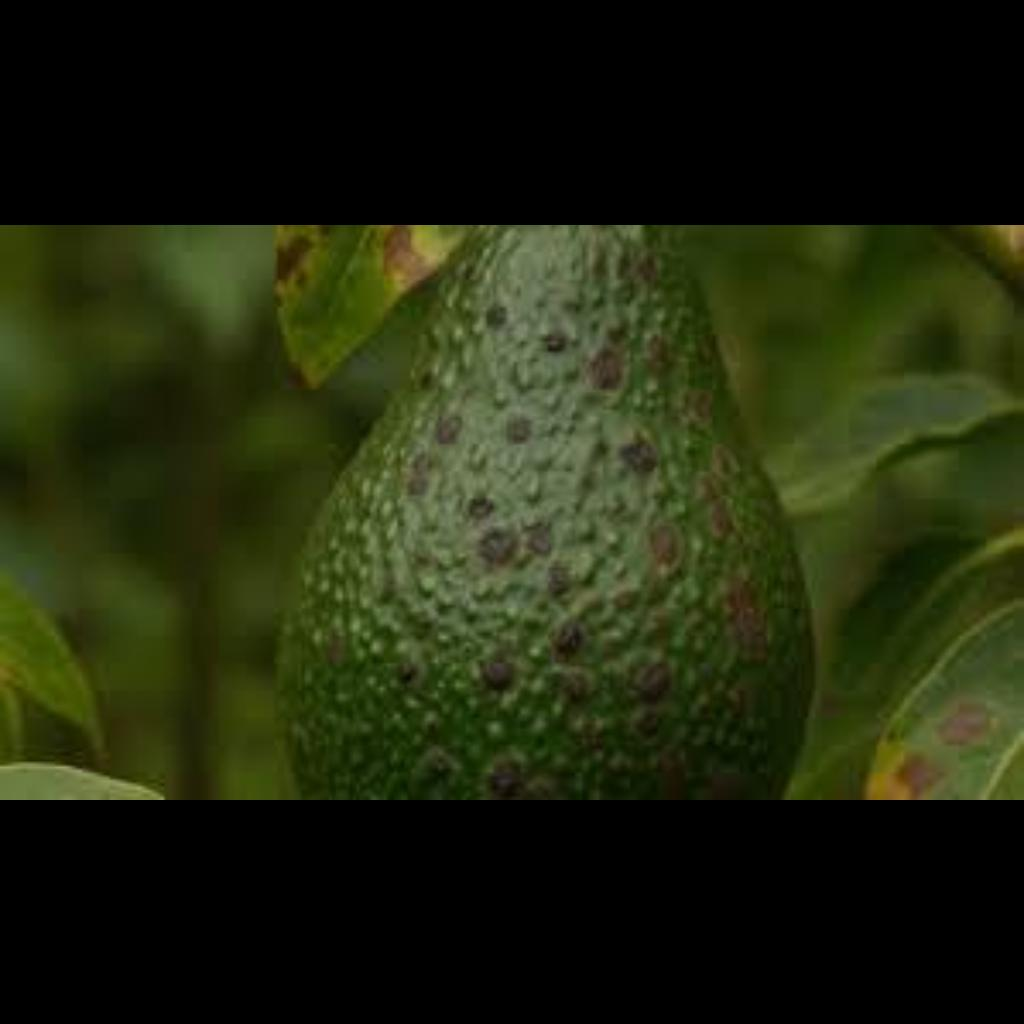cercospora: (388, 282, 775, 768)
